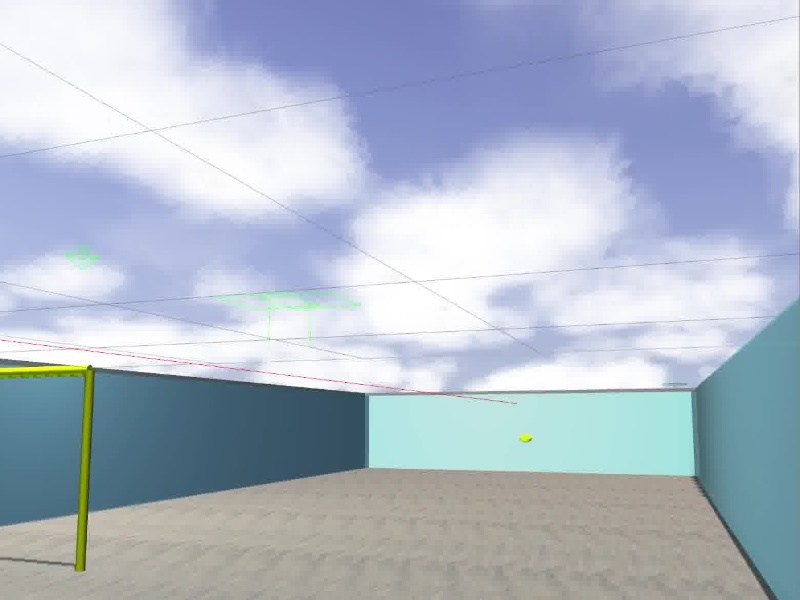gate: (1, 363, 93, 573)
